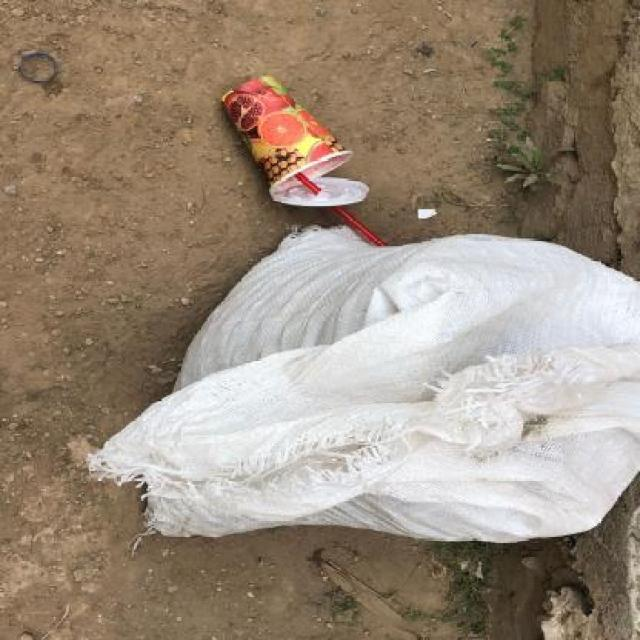garbage: (100, 68, 640, 580)
